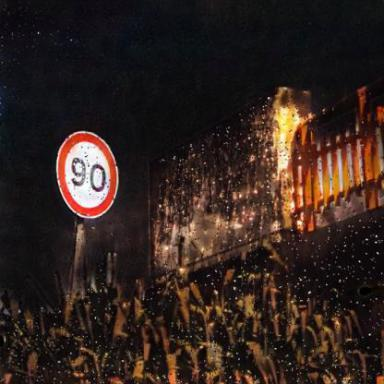Speed_limit_90: (59, 135, 116, 220)
